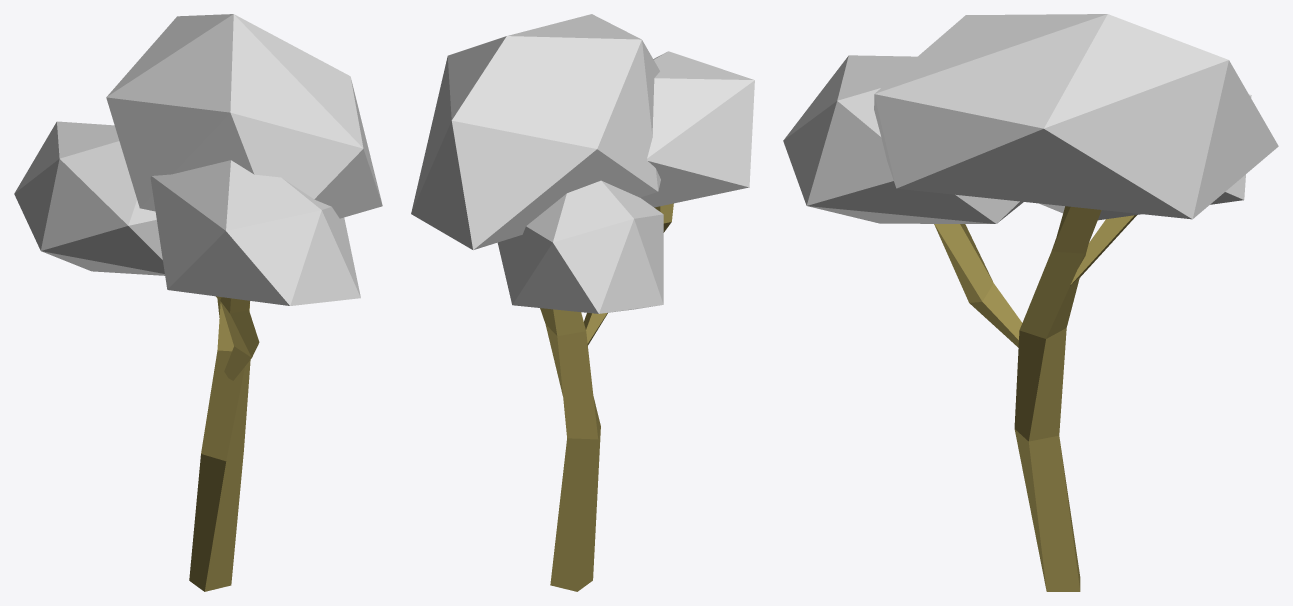
Rendered from Tree_Winter_1.fbx.
3 renders of one model, left to right at view 1: azimuth 30°, elevation 25°; view 2: azimuth 150°, elevation 25°; view 3: azimuth 270°, elevation 25°, orthographic. The views are drawn at different scales.
Parts seen in each view (by area): view 1: Leaves.002, Leaves, Leaves.001, Trunk, Trunk.002; view 2: Leaves.002, Leaves.001, Leaves, Trunk, Trunk.002; view 3: Leaves.002, Leaves, Trunk, Trunk.002, Trunk.001, Leaves.001.
Boxes of the visible parts, left/top/right/bottom form: Leaves.002: left=106, top=14, right=382, bottom=218; Leaves: left=150, top=160, right=360, bottom=305; Leaves.001: left=14, top=121, right=164, bottom=275; Trunk: left=189, top=297, right=250, bottom=591; Trunk.002: left=220, top=297, right=259, bottom=380; Leaves.002: left=411, top=14, right=660, bottom=250; Leaves.001: left=497, top=180, right=663, bottom=313; Leaves: left=640, top=51, right=754, bottom=207; Trunk: left=540, top=308, right=600, bottom=591; Trunk.002: left=584, top=203, right=673, bottom=345; Leaves.002: left=874, top=14, right=1278, bottom=219; Leaves: left=783, top=55, right=1023, bottom=223; Trunk: left=1014, top=206, right=1101, bottom=591; Trunk.002: left=934, top=224, right=1022, bottom=347; Trunk.001: left=1070, top=215, right=1136, bottom=285; Leaves.001: left=1039, top=94, right=1251, bottom=220.
Size of the model in its own units: 183 by 364 by 275.
